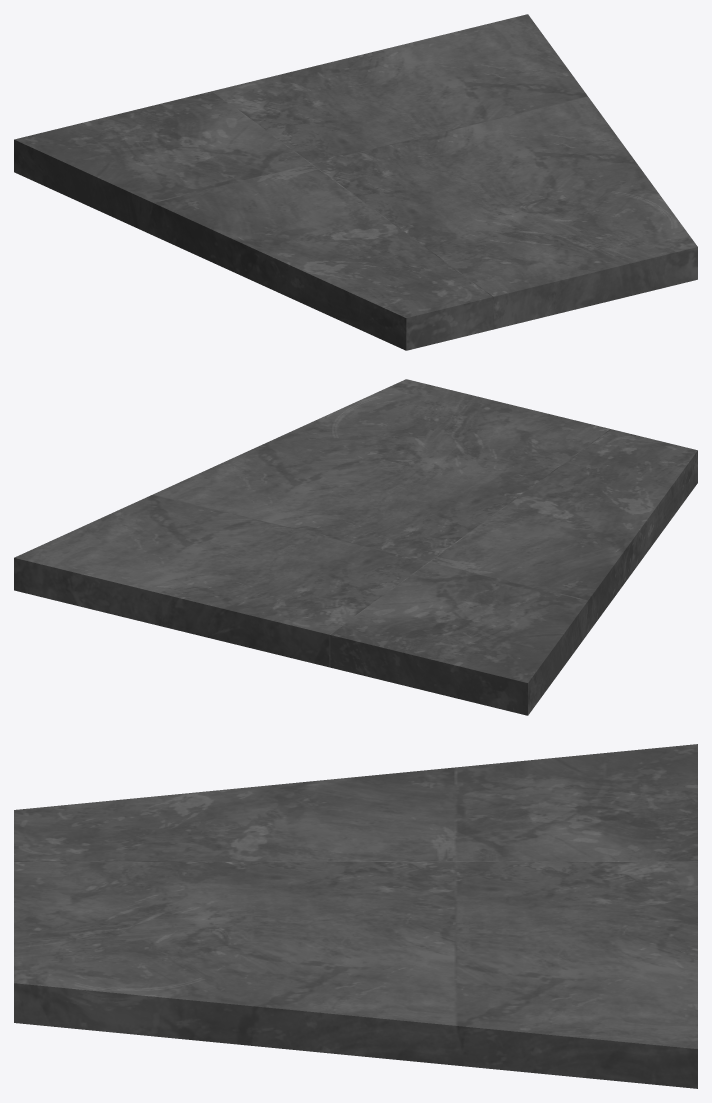
Rendered from Floor_F.fbx.
The picture shows the model from 3 angles, top to bottom: view 1: azimuth 30°, elevation 25°; view 2: azimuth 150°, elevation 25°; view 3: azimuth 270°, elevation 25°; orthographic projection. The views are drawn at different scales.
Visible parts, largest first — view 1: Floor_F; view 2: Floor_F; view 3: Floor_F.
Boxes of the visible parts, left/top/right/bottom form: Floor_F: left=14, top=14, right=697, bottom=350; Floor_F: left=14, top=379, right=697, bottom=715; Floor_F: left=14, top=744, right=697, bottom=1088.
Size of the model in its own units: 8.23 by 0.5 by 7.8.
